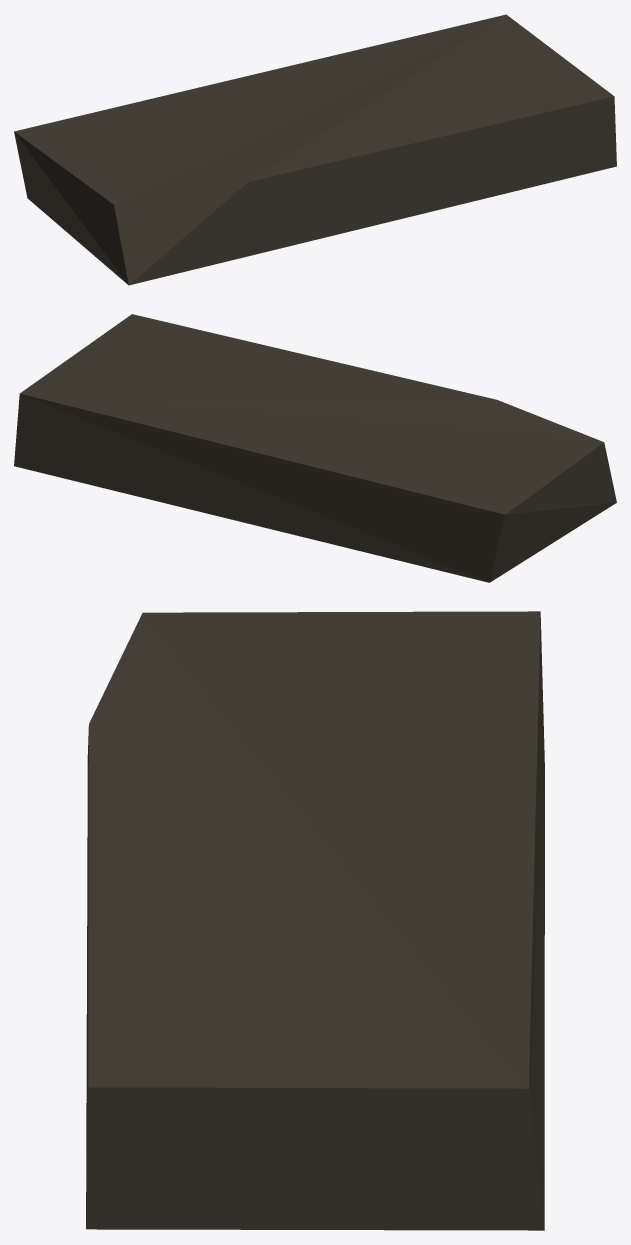
File: Brick_Single_3_LOD.fbx
The picture shows the model from 3 angles, top to bottom: view 1: azimuth 30°, elevation 25°; view 2: azimuth 150°, elevation 25°; view 3: azimuth 270°, elevation 25°; orthographic projection. The views are drawn at different scales.
Visible parts, largest first — view 1: Group49062; view 2: Group49062; view 3: Group49062.
Part boxes in pixels (x1,y1,x2,y2): Group49062: [14, 14, 616, 285]; Group49062: [14, 314, 616, 582]; Group49062: [86, 611, 544, 1230].
Size of the model in its own units: 2.88 by 0.4155 by 1.17.
